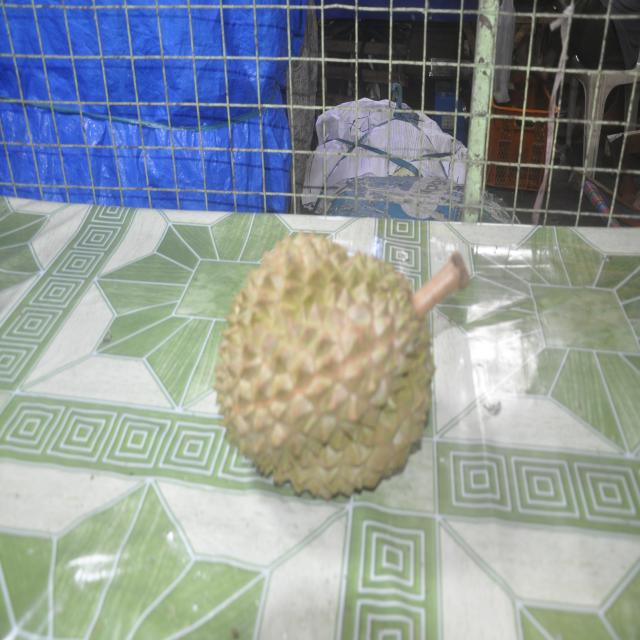mature: (215, 233, 469, 498)
